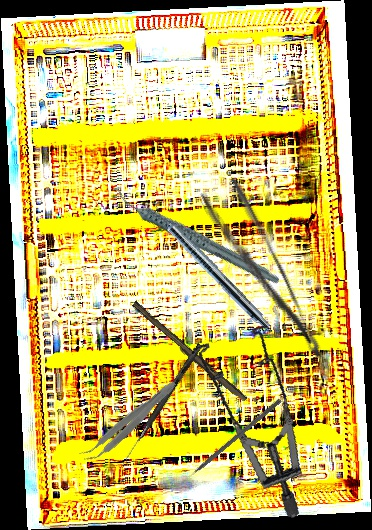Dressing Forceps: (197, 175, 327, 375)
Handpiece: (114, 159, 282, 315), (146, 199, 275, 333)
Hook Surgical: (123, 342, 203, 463), (179, 397, 282, 485)
Scalpel Handle: (128, 300, 250, 405)
Speculum: (160, 311, 339, 519)
Tissue Forceps: (78, 374, 180, 468)
